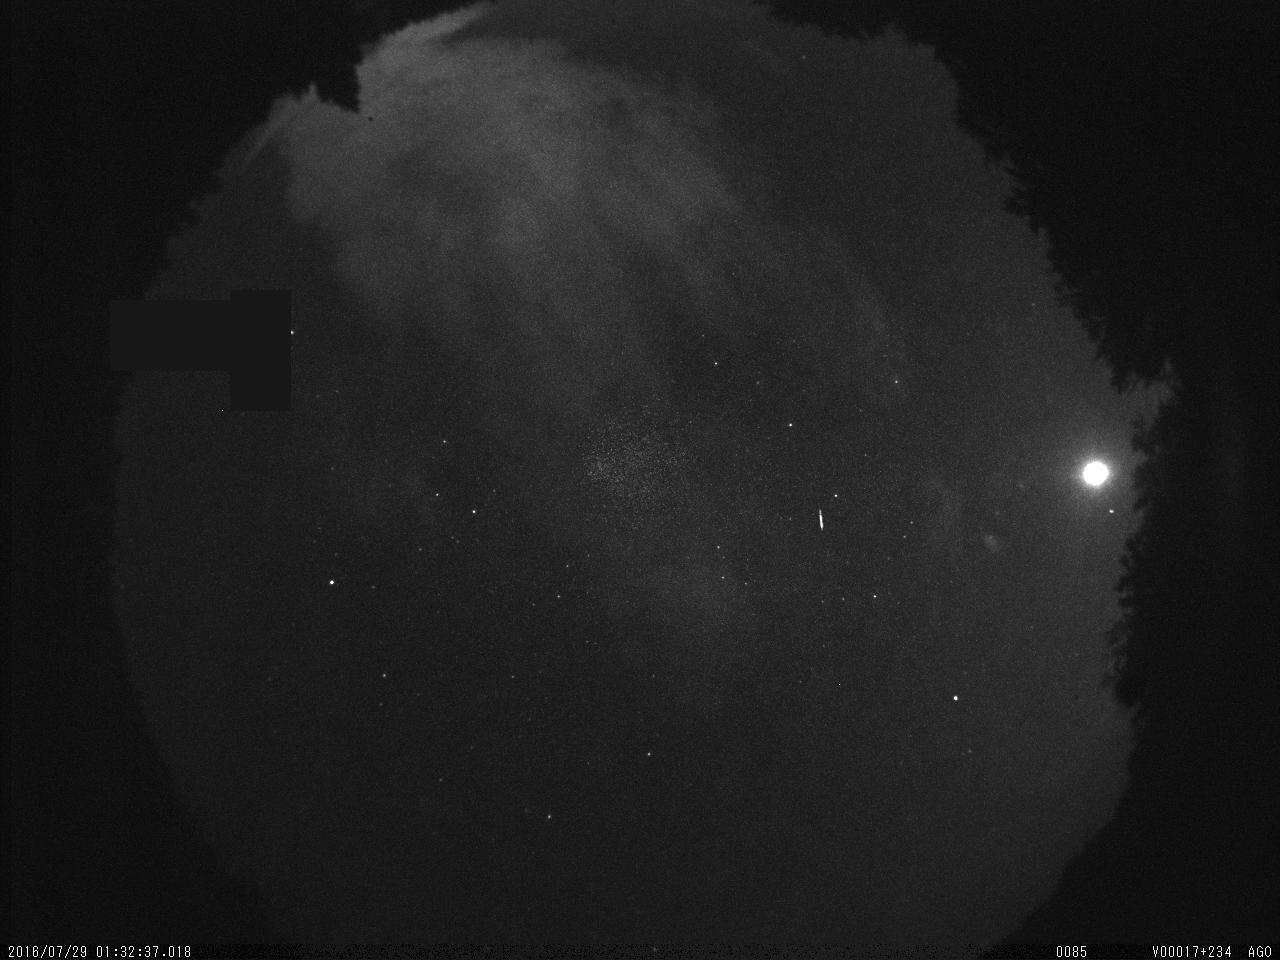meteor: (812, 503, 832, 539)
